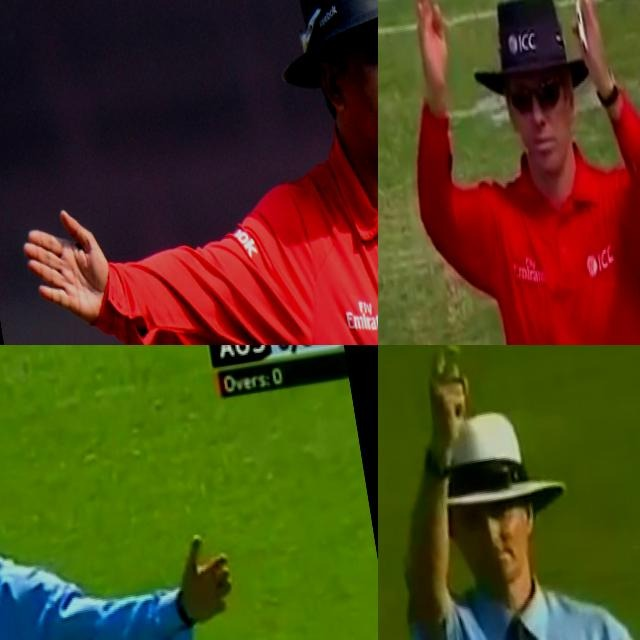No_Ball: (0, 0, 378, 345), (0, 372, 282, 640)
Out: (378, 345, 640, 640)
Six: (378, 0, 640, 345)
